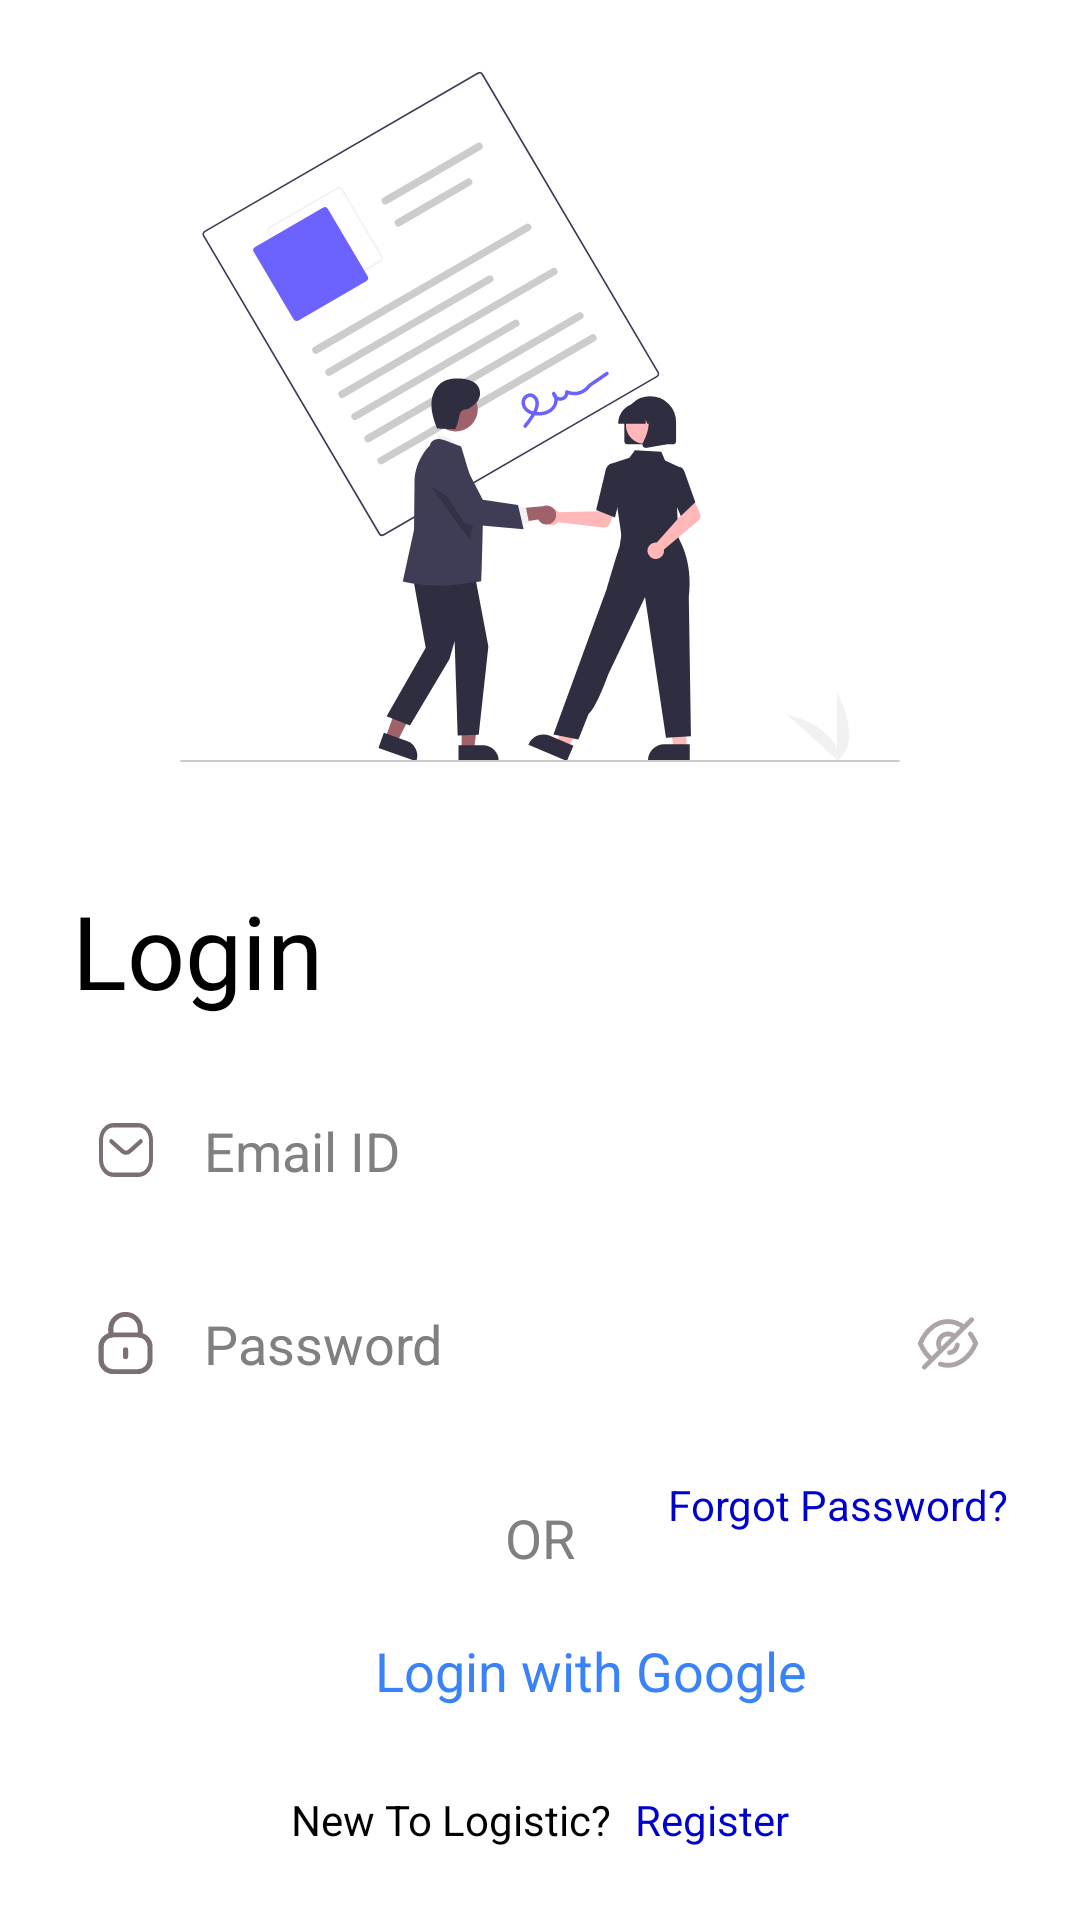

Where to tap for icons on this 1080*1920 app screen, as (x=x, y=y):
hide pass: (x=948, y=1343)
